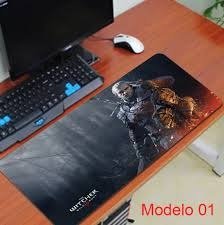keyboard: (0, 47, 103, 119)
mouse: (110, 31, 149, 54)
